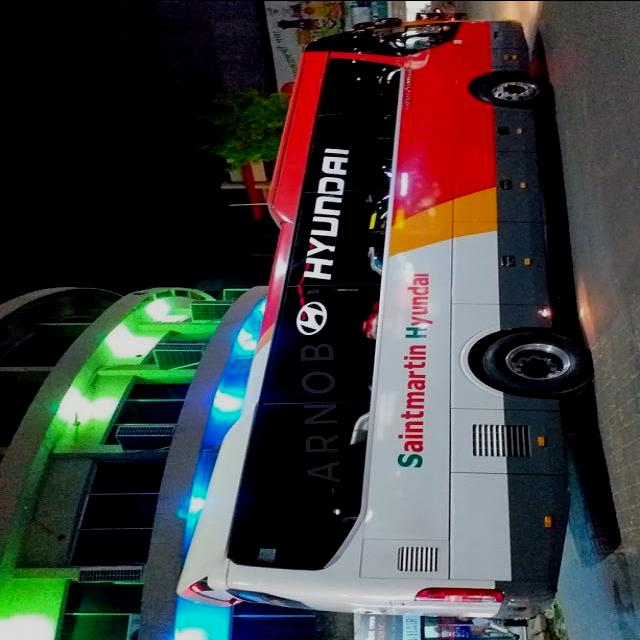bus: (175, 17, 594, 621)
